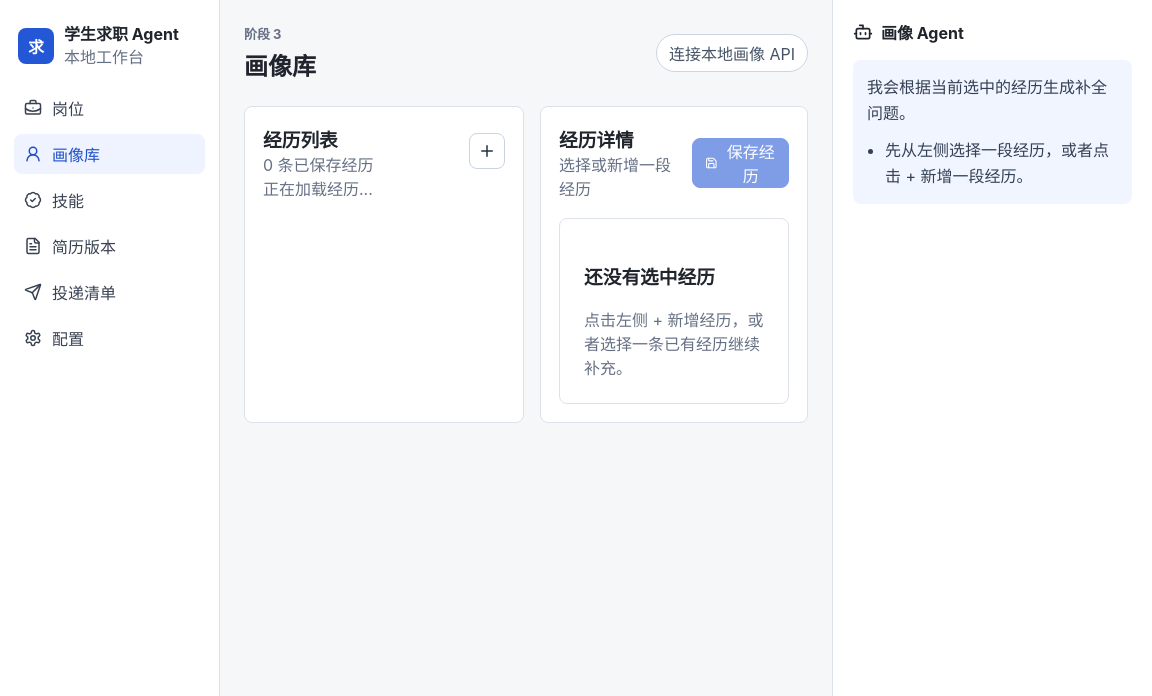
it: 简历版本导航 › opens the independent resume editor from the main navigation
The width and height of the screenshot is (1152, 696).
Click the button "简历版本". click: (110, 246)
box: 14,226 -> 205,266
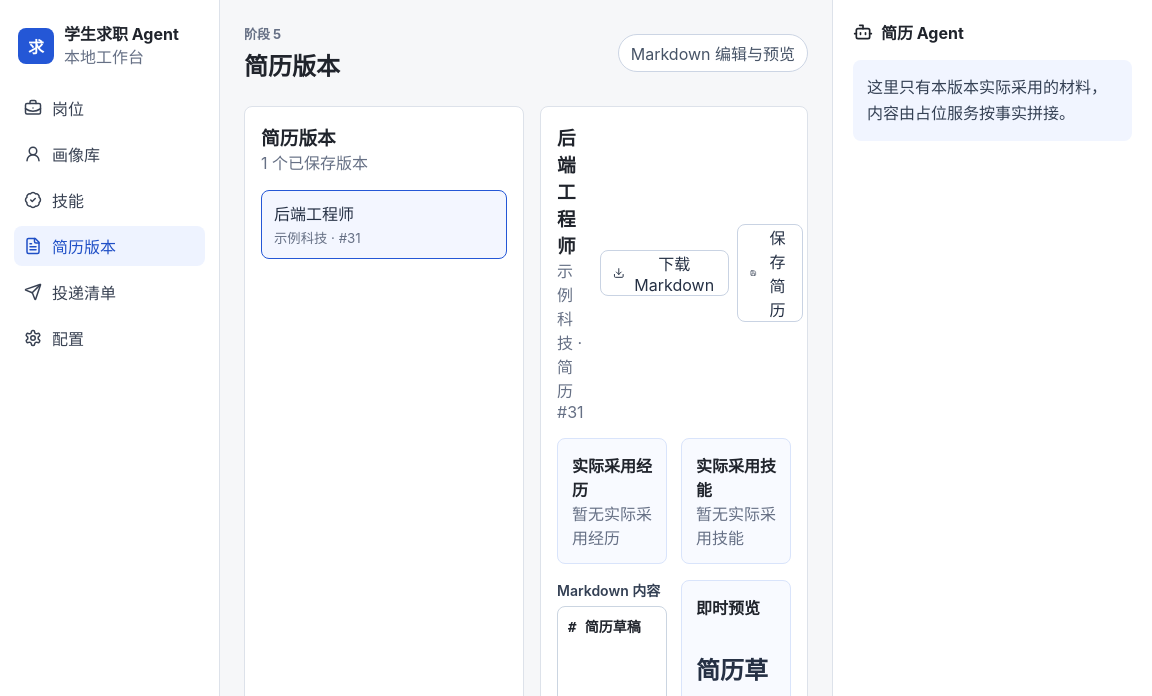
Expected: the text "暂无实际采用经历" is shown, 572,501 -> 652,549
Expected: the text "这里只有本版本实际采用的材料，内容由占位服务按事实拼接。" is shown, 867,74 -> 1118,127
